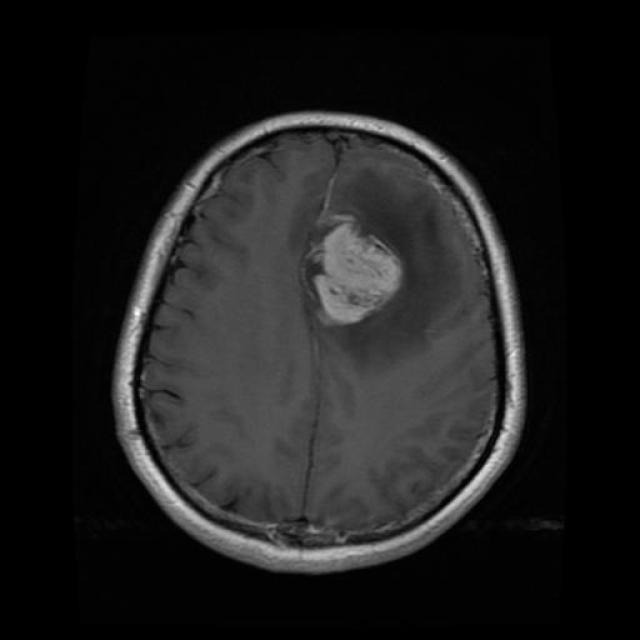Meningioma: (308, 216, 403, 325)
